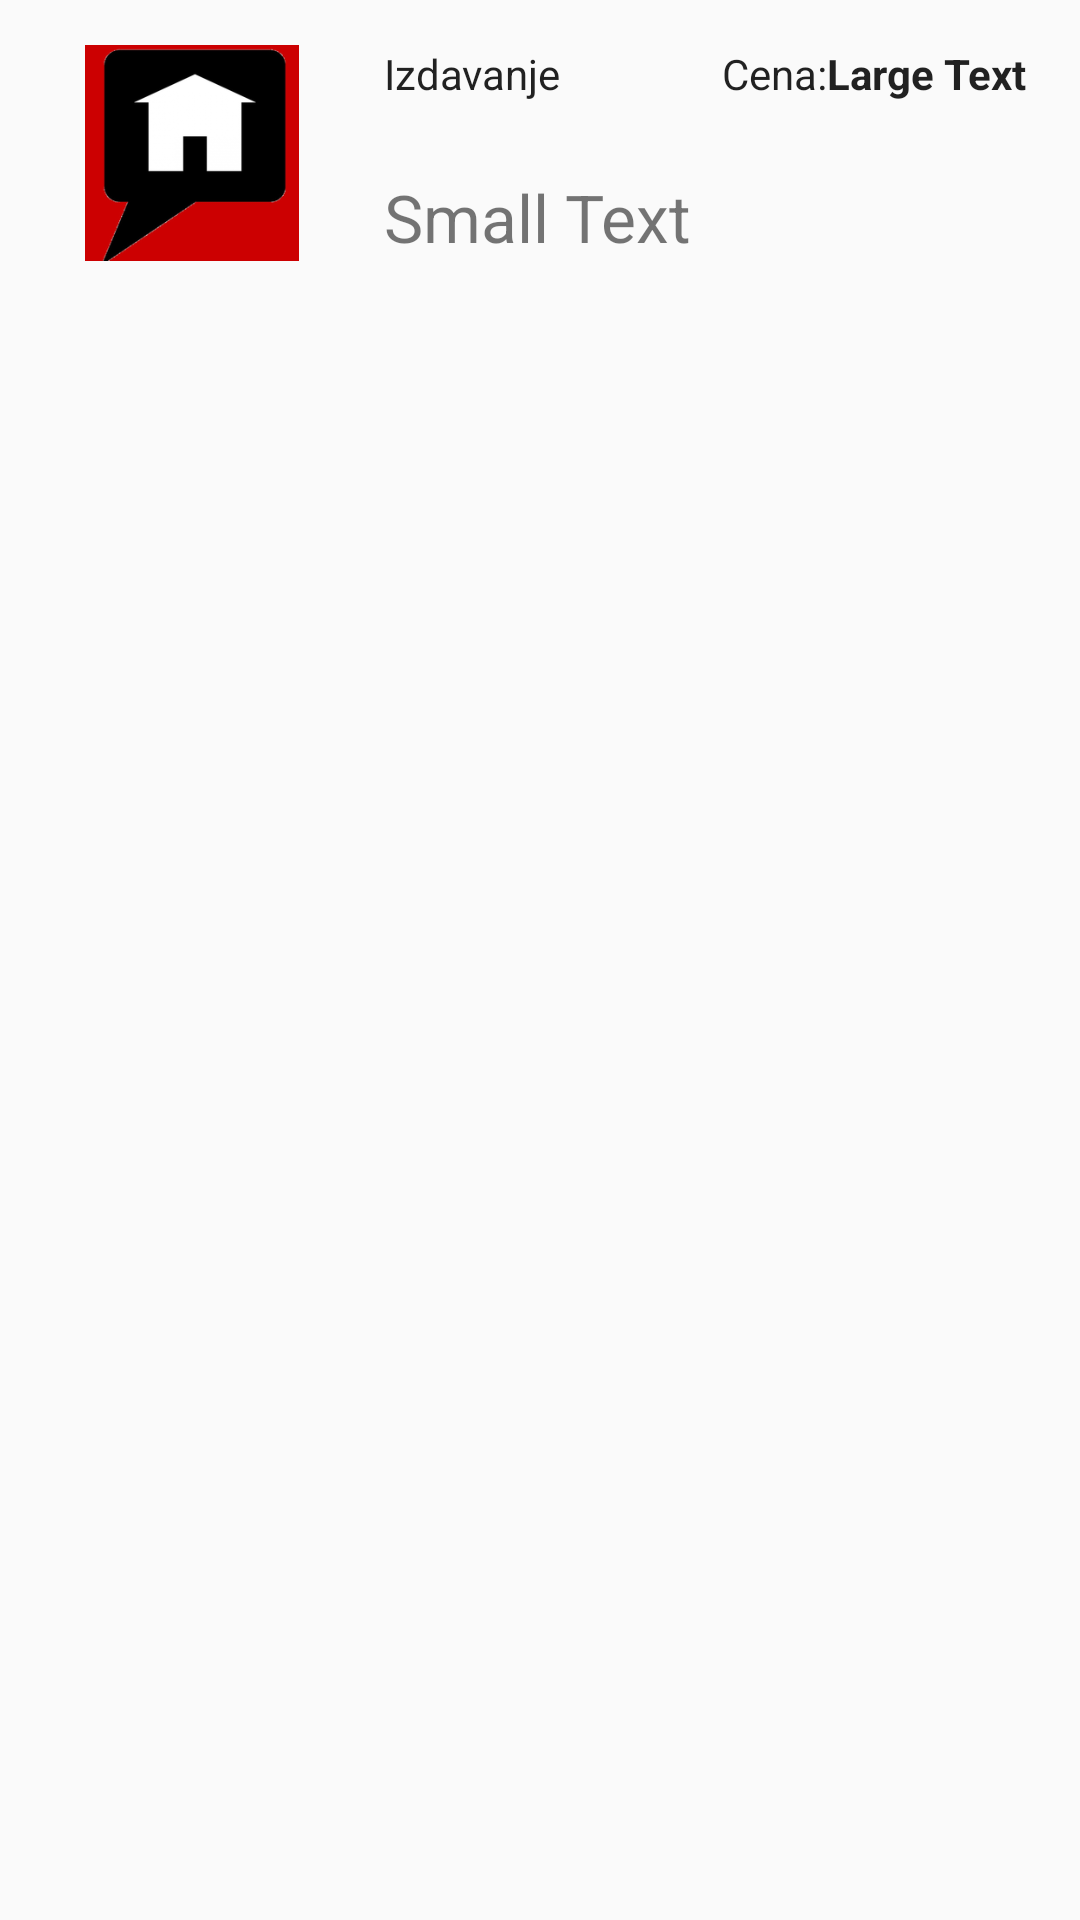

Icons on this 1080x1920 Android screen, each with the point to tap as point (x, y):
homeicon: point (192, 153)
